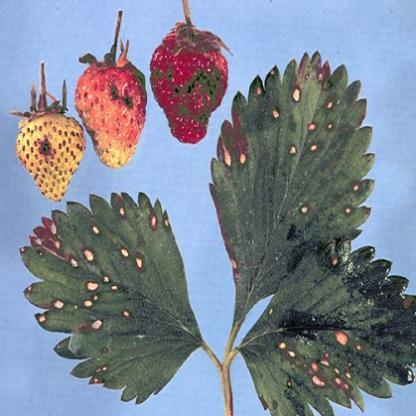Strawberry_Anthracnose_Fruit_Rot: (150, 60, 226, 132), (102, 82, 140, 118), (34, 127, 64, 163)
Strawberry_Leaf_Spot: (208, 49, 376, 330), (17, 191, 205, 405), (238, 238, 416, 414)
